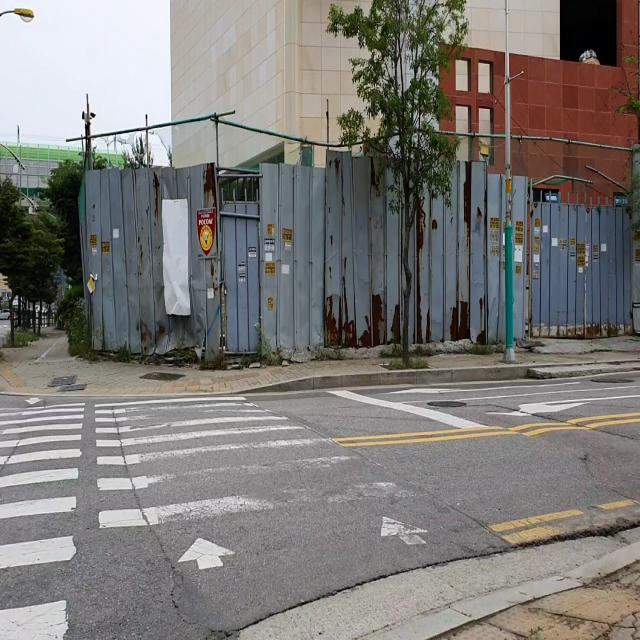횡단보도: (0, 387, 432, 640)
